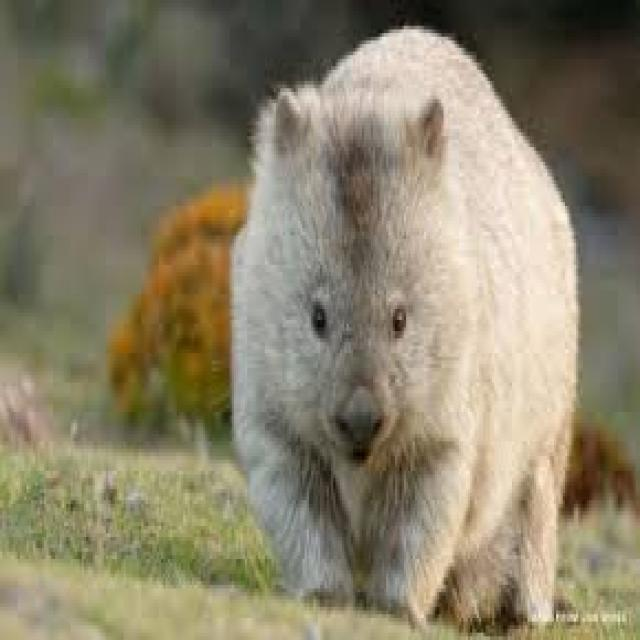Wombat: (225, 19, 579, 634)
